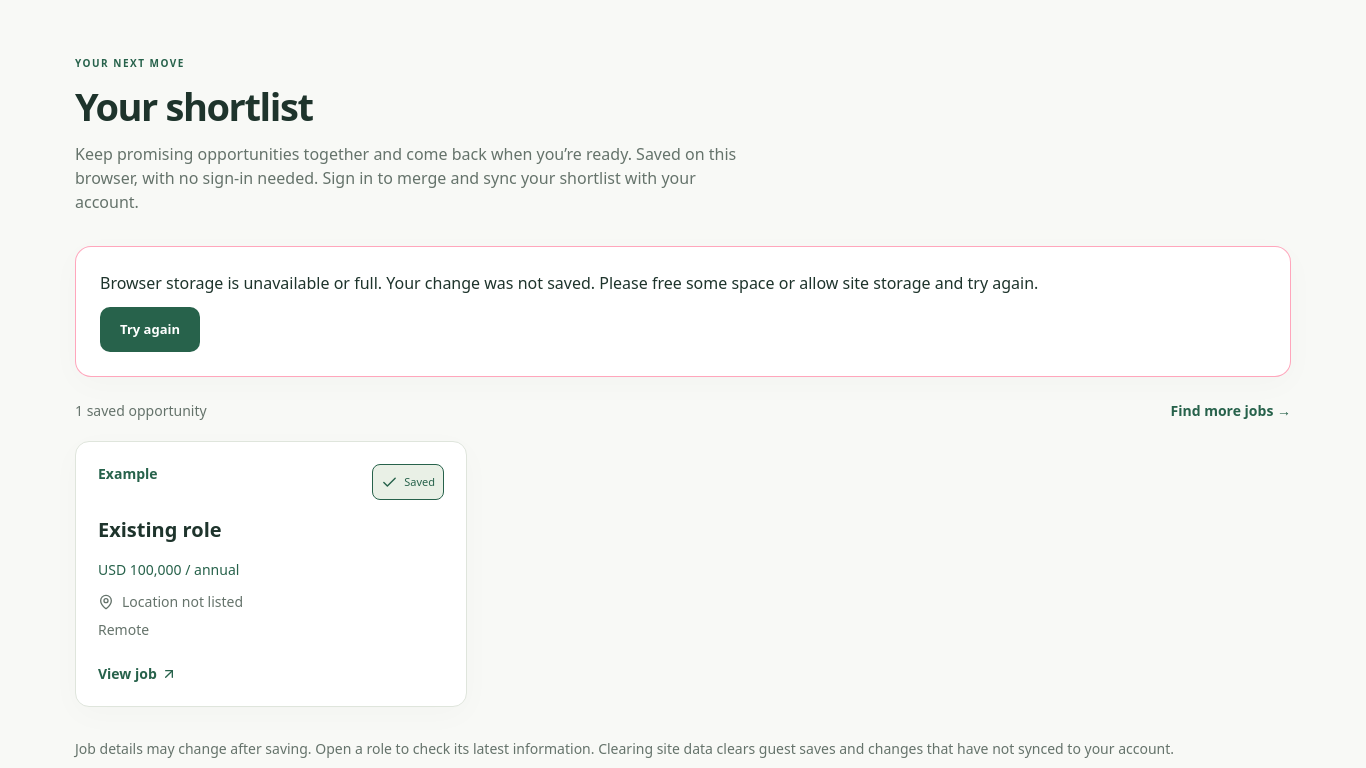
Scenario: browser shortlist › handles blocked storage and recovers when access is restored
Expected: the message shows "Browser storage is unavailable", [100,272,1038,294]
Click the button "Try again" at point(150, 329), box [100,307,200,352]
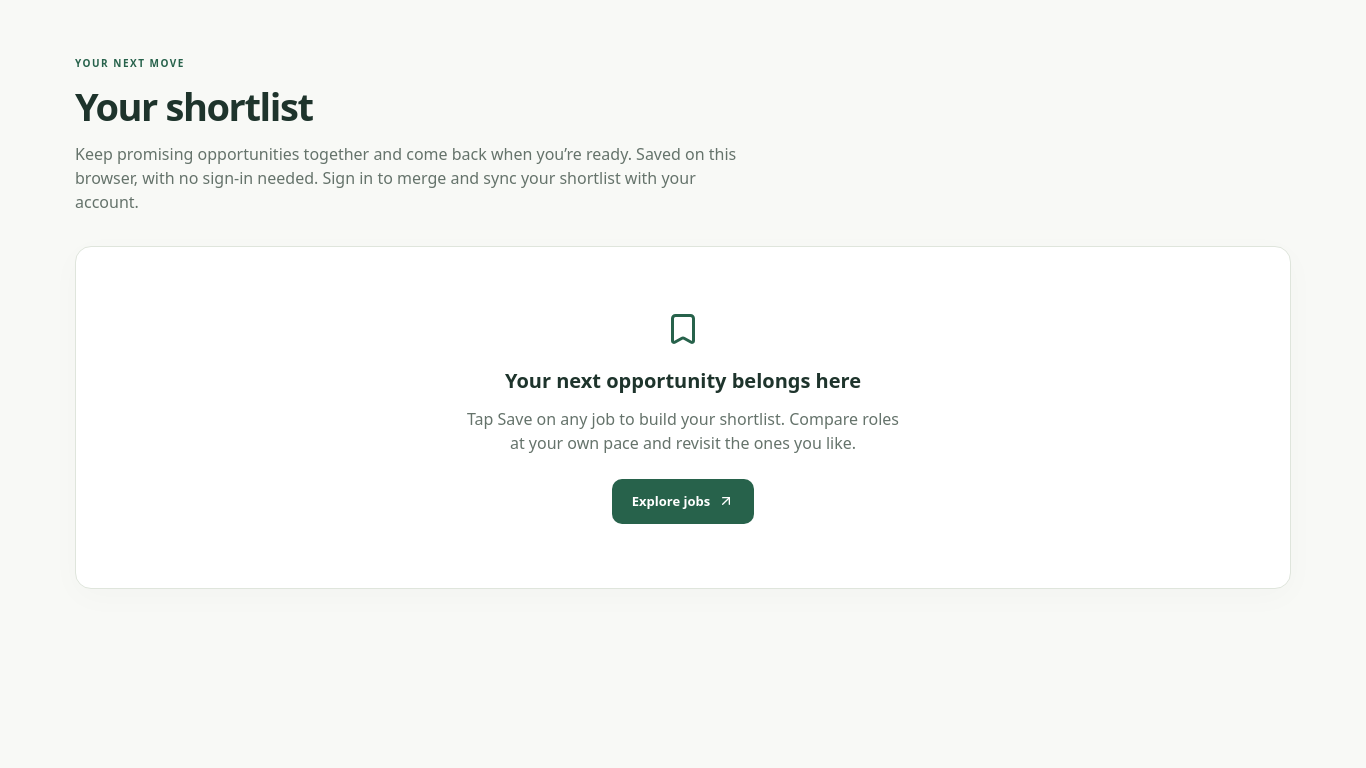
Now the message is gone
